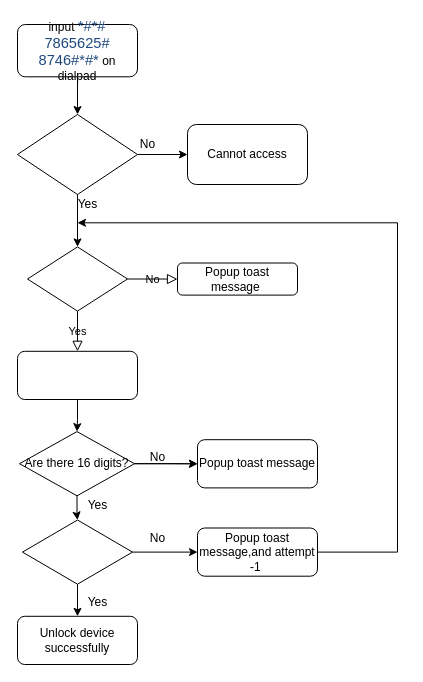
Some shapes in this 423 by 682 pixel diagram are drawn without their labels. Here are the shapes that lost their labels. From the top down, the centre of each, then its label:
(77,154): Is locked?
(77,278): attempt > 0?
(77,375): Popup window to input unlock code(16)
(77,551): Is unlock code correct?
